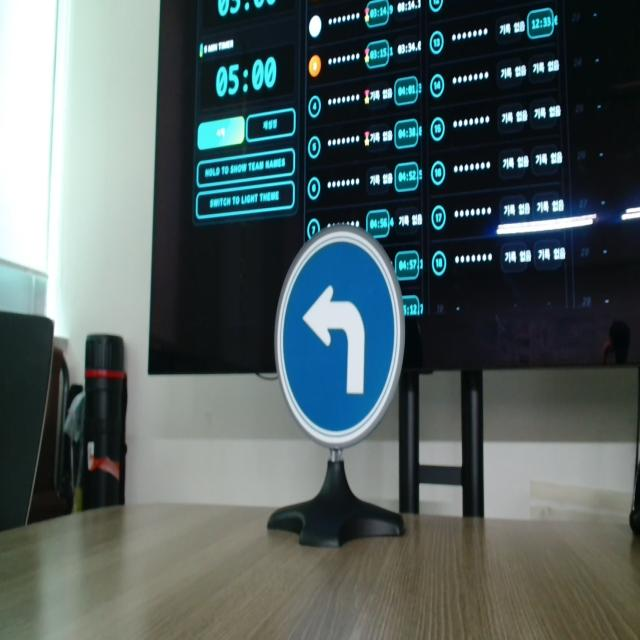left_direction: (266, 220, 418, 470)
